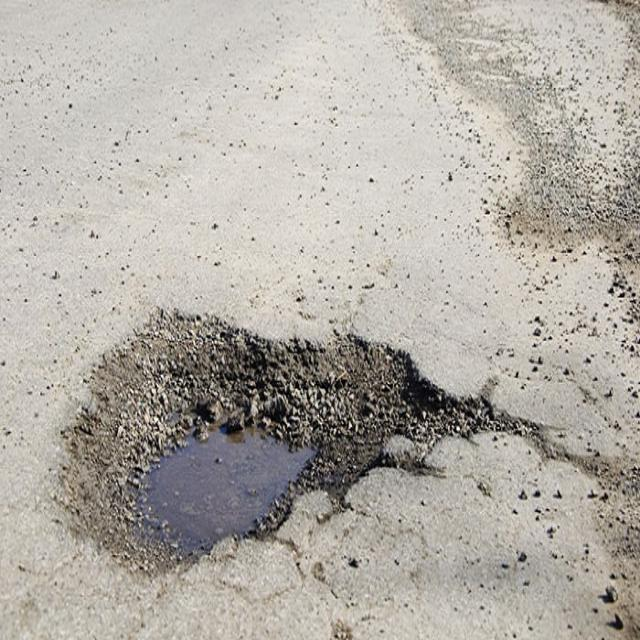Lubang: (65, 318, 513, 577)
